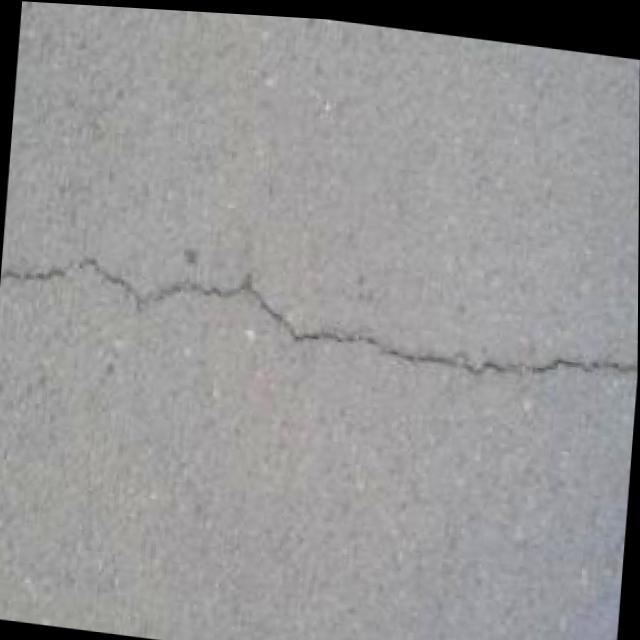Crack: (0, 219, 639, 411)
